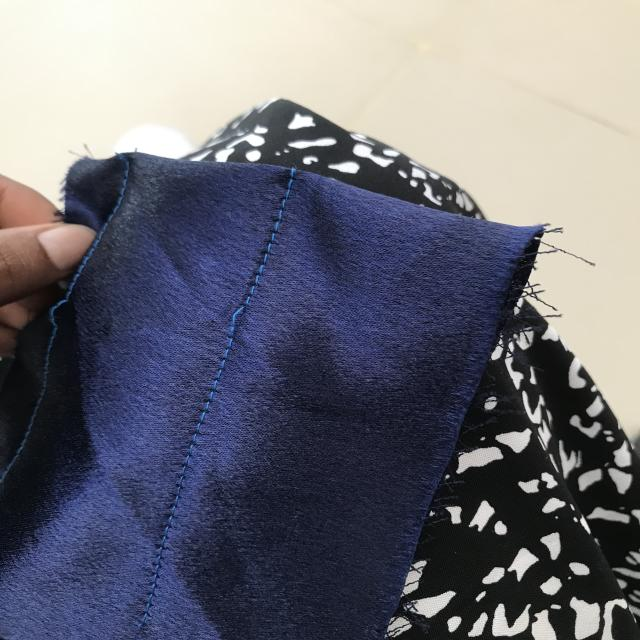skip: (222, 297, 260, 351), (44, 291, 78, 335)
